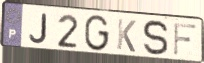2: (56, 13, 79, 50)
F: (172, 21, 199, 58)
G: (83, 14, 111, 53)
J: (28, 13, 48, 45)
K: (115, 17, 138, 54)
S: (141, 18, 170, 57)
